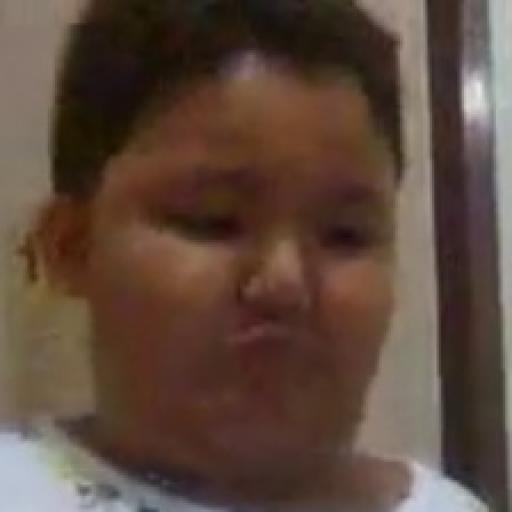Autism: (86, 0, 457, 482)
